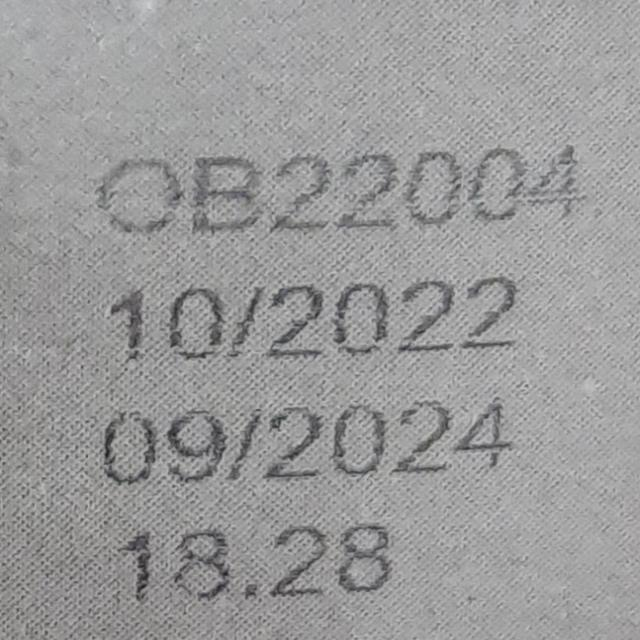sentence: (99, 148, 577, 232), (104, 400, 511, 484), (111, 278, 517, 359), (122, 525, 391, 601)
